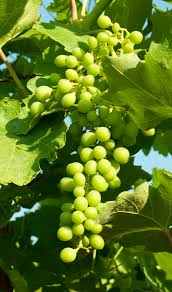grapes: (27, 31, 126, 116), (68, 123, 116, 253)
